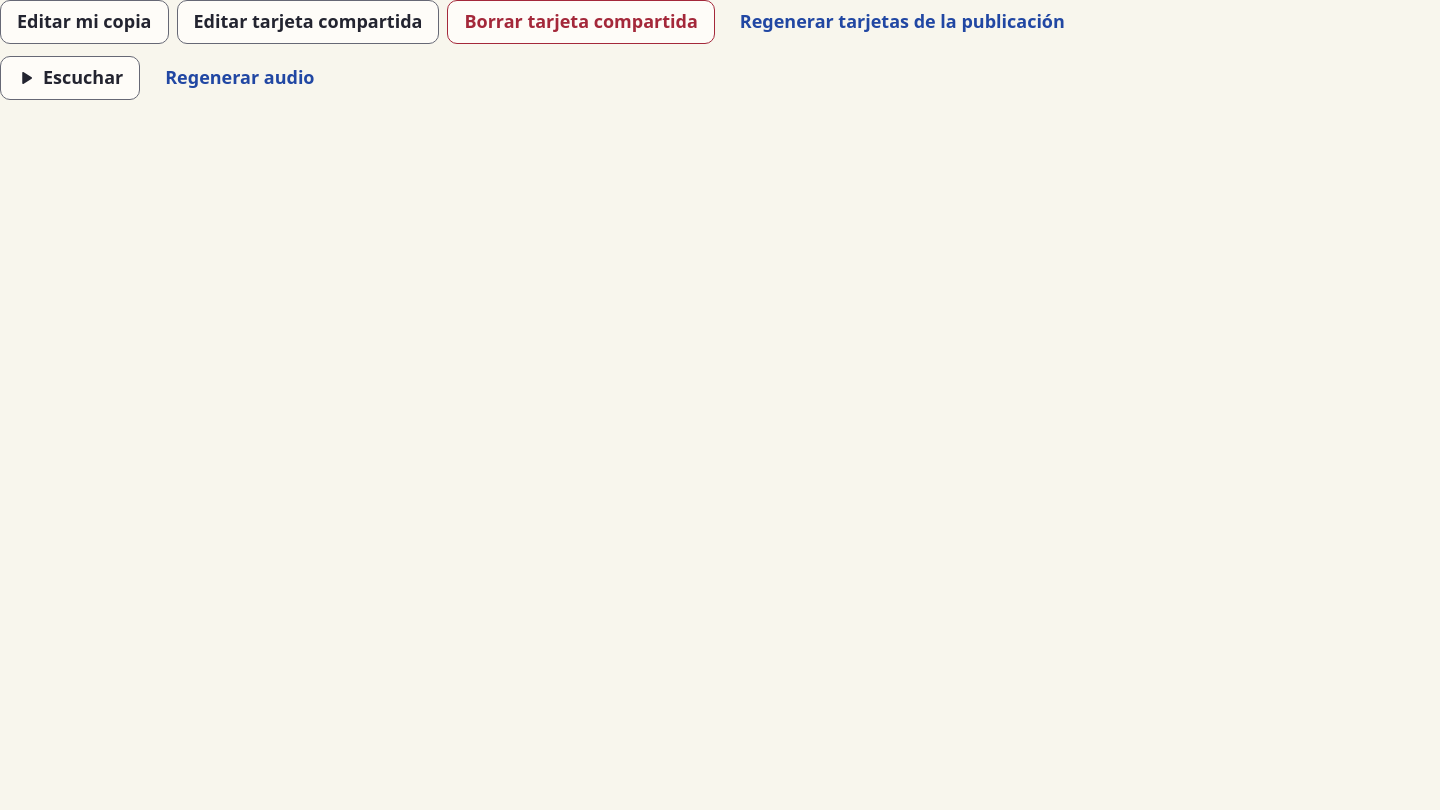
Test: borrar la tarjeta compartida pide confirmación
Later steps or results of the test are not shown.
Click the button "Borrar tarjeta compartida": (581, 22) [447,0,715,44]
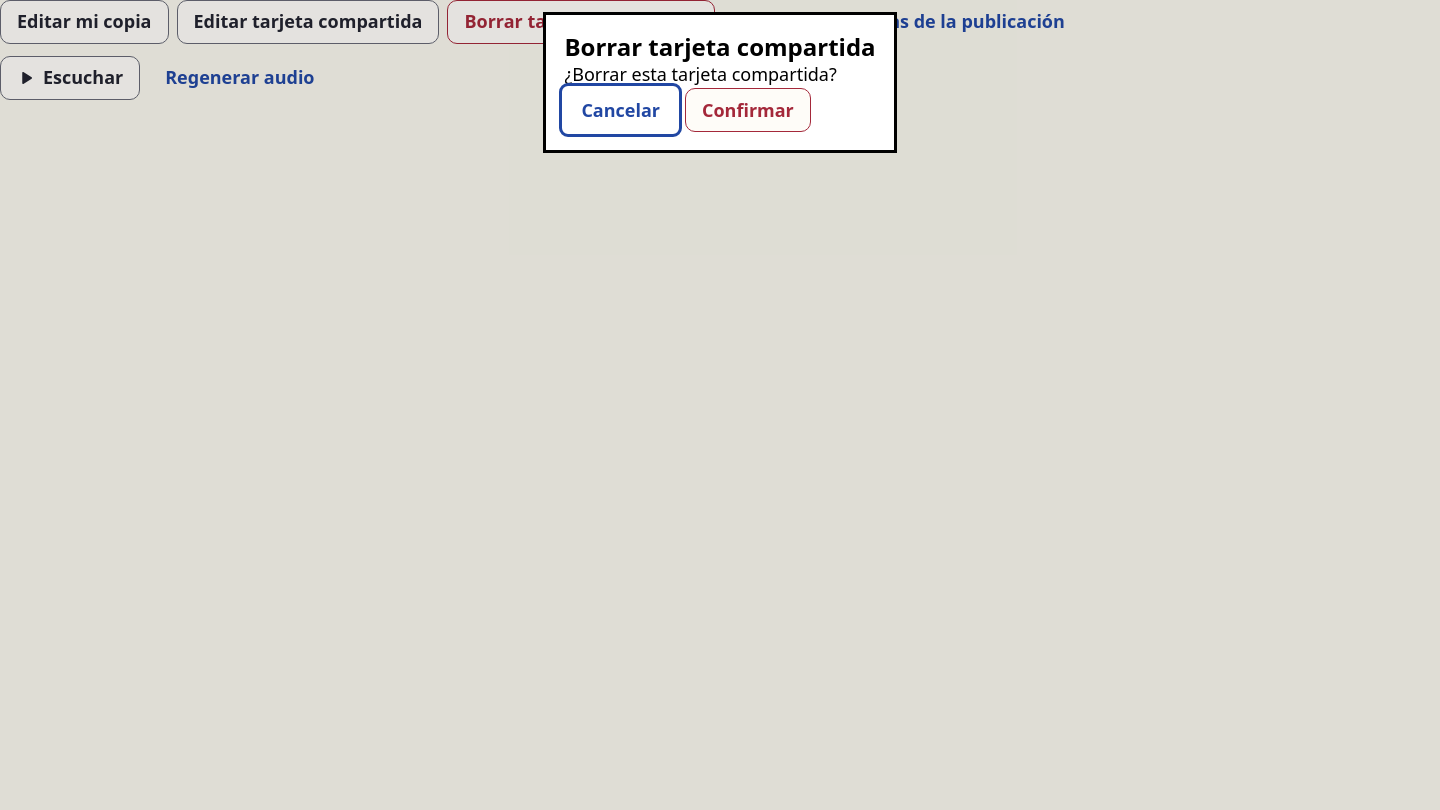
expect the text "¿Borrar esta tarjeta compartida?" is shown: met, box [564,61,876,88]
